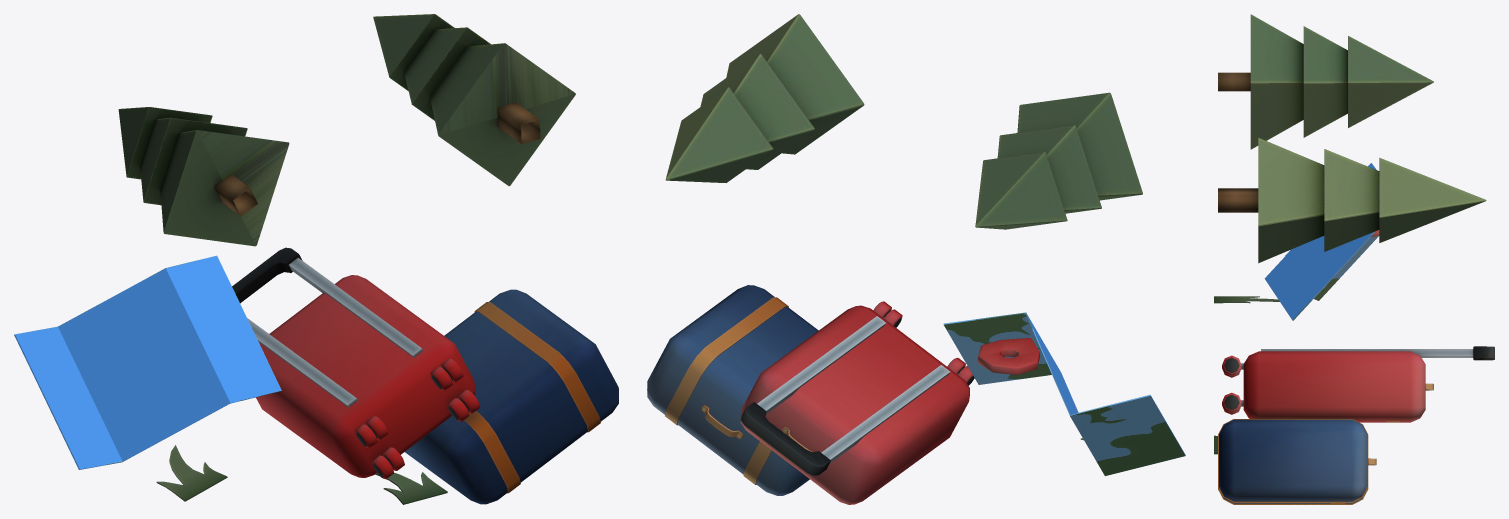
File: travel.glb
3 renders of one model, left to right at view 1: azimuth 30°, elevation 25°; view 2: azimuth 150°, elevation 25°; view 3: azimuth 270°, elevation 25°, orthographic. The views are drawn at different scales.
Parts seen in each view (by area): view 1: Voyage, Arbres Voyage; view 2: Voyage, Arbres Voyage; view 3: Voyage, Arbres Voyage.
Boxes of the visible parts, x1=… form: Voyage: x1=14, y1=247, x2=618, y2=504; Arbres Voyage: x1=118, y1=14, x2=575, y2=504; Voyage: x1=647, y1=285, x2=1185, y2=504; Arbres Voyage: x1=665, y1=14, x2=1142, y2=440; Voyage: x1=1218, y1=163, x2=1494, y2=504; Arbres Voyage: x1=1214, y1=14, x2=1486, y2=454.
Bounding box in the file's own units: 1.13 × 0.9132 × 0.6161.
2 materials, 2 textured.
